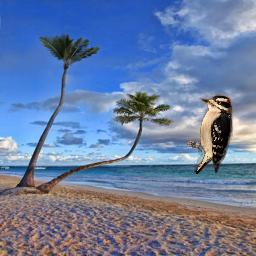Woodpecker: (186, 93, 233, 174)
